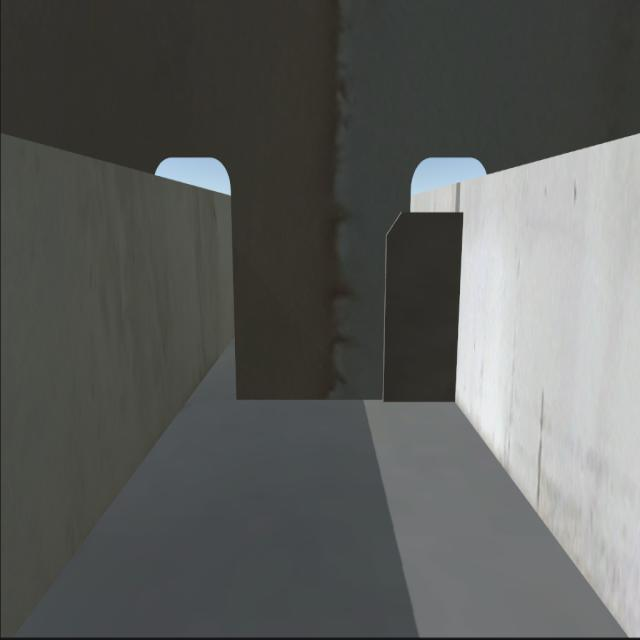fillet_yong_jeop_jang: (233, 392, 460, 407)
longi_yong_jeop_jang: (453, 212, 472, 408)
plate_CP03: (382, 209, 466, 397)
